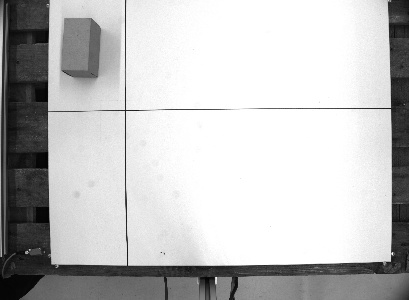b2: (59, 15, 103, 80)
